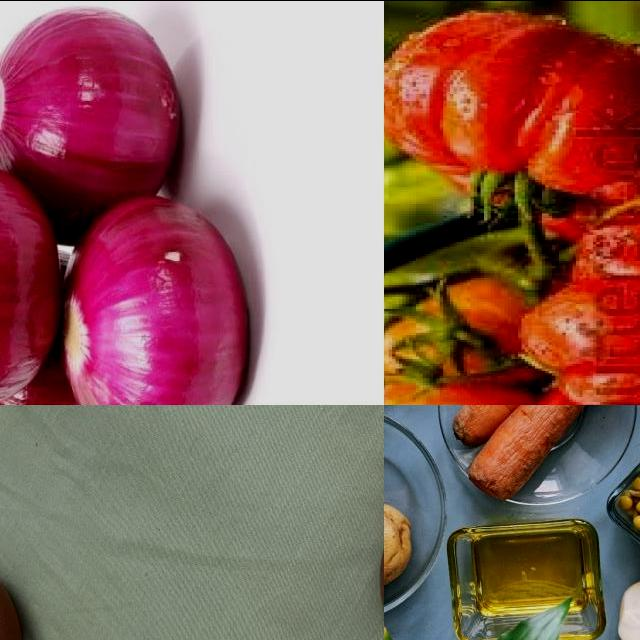bell_pepper: (385, 4, 640, 244), (521, 190, 640, 405)
carrot: (469, 422, 547, 502)
onion: (1, 3, 192, 247), (62, 194, 255, 405), (1, 234, 105, 405), (1, 159, 66, 404)
potato: (385, 506, 408, 582)
